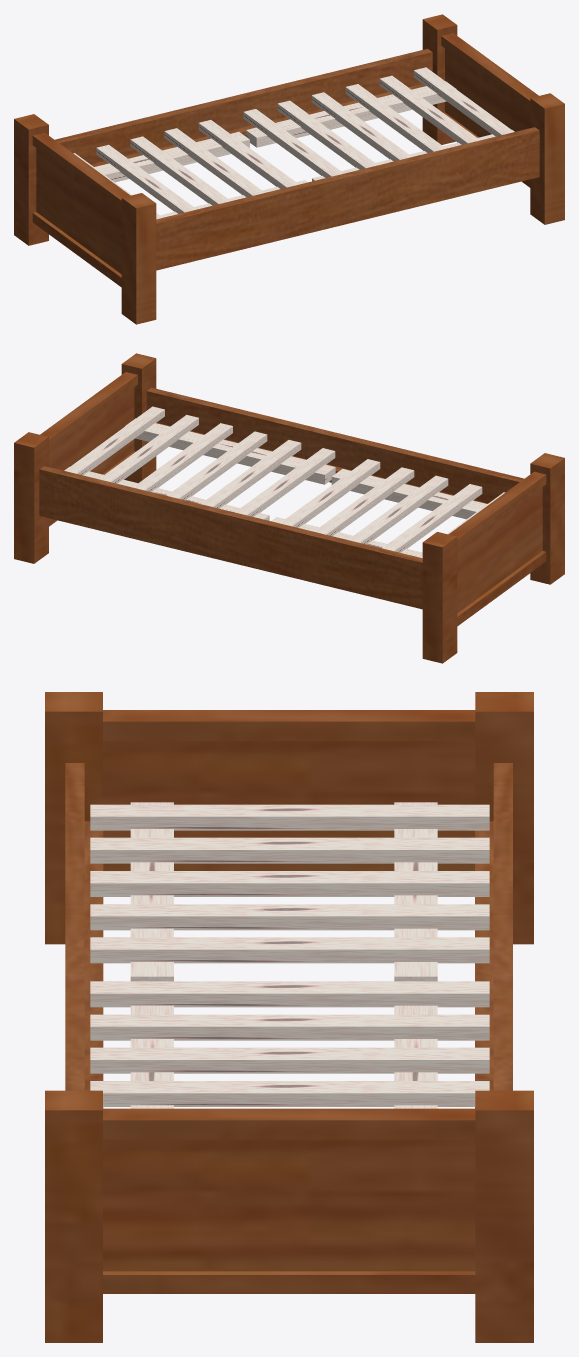
3 renders of one model, top to bottom at view 1: azimuth 30°, elevation 25°; view 2: azimuth 150°, elevation 25°; view 3: azimuth 270°, elevation 25°, orthographic. The views are drawn at different scales.
Visible parts, largest first — view 1: begbase1, leg1, leg1.001, bedbase2, pCube26.001, pCube17.001, pCube20.001, pCube21.001, pCube14.001, pCube18.001, pCube12.001, pCube13.001 (+4 smaller); view 2: bedbase2, leg1, leg1.001, begbase1, pCube25.001, pCube20.001, pCube21.001, pCube14.001, pCube12.001, pCube15.001, pCube13.001, pCube22.001 (+6 smaller); view 3: leg1.001, leg1, pCube15.001, pCube20.001, pCube16.001, pCube21.001, pCube12.001, pCube13.001, pCube22.001, pCube14.001, pCube19.001, begbase1 (+5 smaller).
Part boxes in pixels (x1,y1,x2,y2): begbase1: (156,127,539,270); leg1: (14,114,156,324); leg1.001: (422,14,564,224); bedbase2: (55,48,432,166); pCube26.001: (246,81,456,147); pCube17.001: (413,67,513,136); pCube20.001: (311,92,411,161); pCube21.001: (277,100,377,169); pCube14.001: (130,136,230,205); pCube18.001: (379,75,479,144); pCube12.001: (198,120,298,188); pCube13.001: (164,128,264,197); bedbase2: (39,466,422,609); leg1: (422,453,564,663); leg1.001: (14,353,156,563); begbase1: (146,387,523,503); pCube25.001: (125,418,335,484); pCube20.001: (167,431,267,500); pCube21.001: (201,440,301,508); pCube14.001: (348,475,448,544); pCube12.001: (280,459,380,527); pCube15.001: (382,484,482,552); pCube13.001: (314,467,414,536); pCube22.001: (235,448,335,516); leg1.001: (45,1090,533,1342); leg1: (45,692,533,944); pCube15.001: (90,837,489,863); pCube20.001: (90,1047,489,1073); pCube16.001: (90,804,489,830); pCube21.001: (90,1014,489,1040); pCube12.001: (90,937,489,963); pCube13.001: (90,904,489,930); pCube22.001: (90,981,489,1007); pCube14.001: (90,871,489,896); pCube19.001: (90,1081,489,1106); begbase1: (65,763,103,1108).
Bounding box in the file's own units: 18.89 × 4.89 × 9.33.
3 materials, 3 textured.
